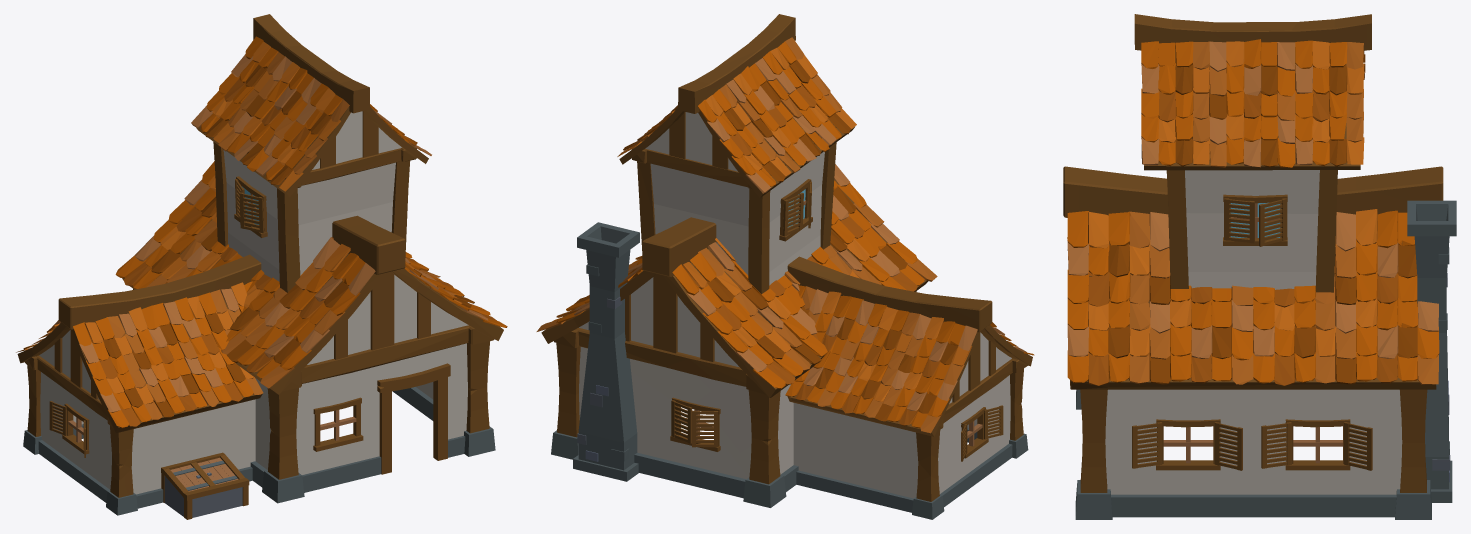
The model's file is House_05.fbx.
3 views of the same model, side by side, from view 1: azimuth 30°, elevation 25°; view 2: azimuth 150°, elevation 25°; view 3: azimuth 270°, elevation 25° (orthographic). The views are drawn at different scales.
Parts seen in each view (by area): view 1: House_05; view 2: House_05; view 3: House_05.
Part boxes in pixels (x1,y1,x2,y2): House_05: (16, 14, 507, 519); House_05: (536, 14, 1034, 519); House_05: (1063, 14, 1456, 519).
Size of the model in its own units: 886 by 847 by 688.
